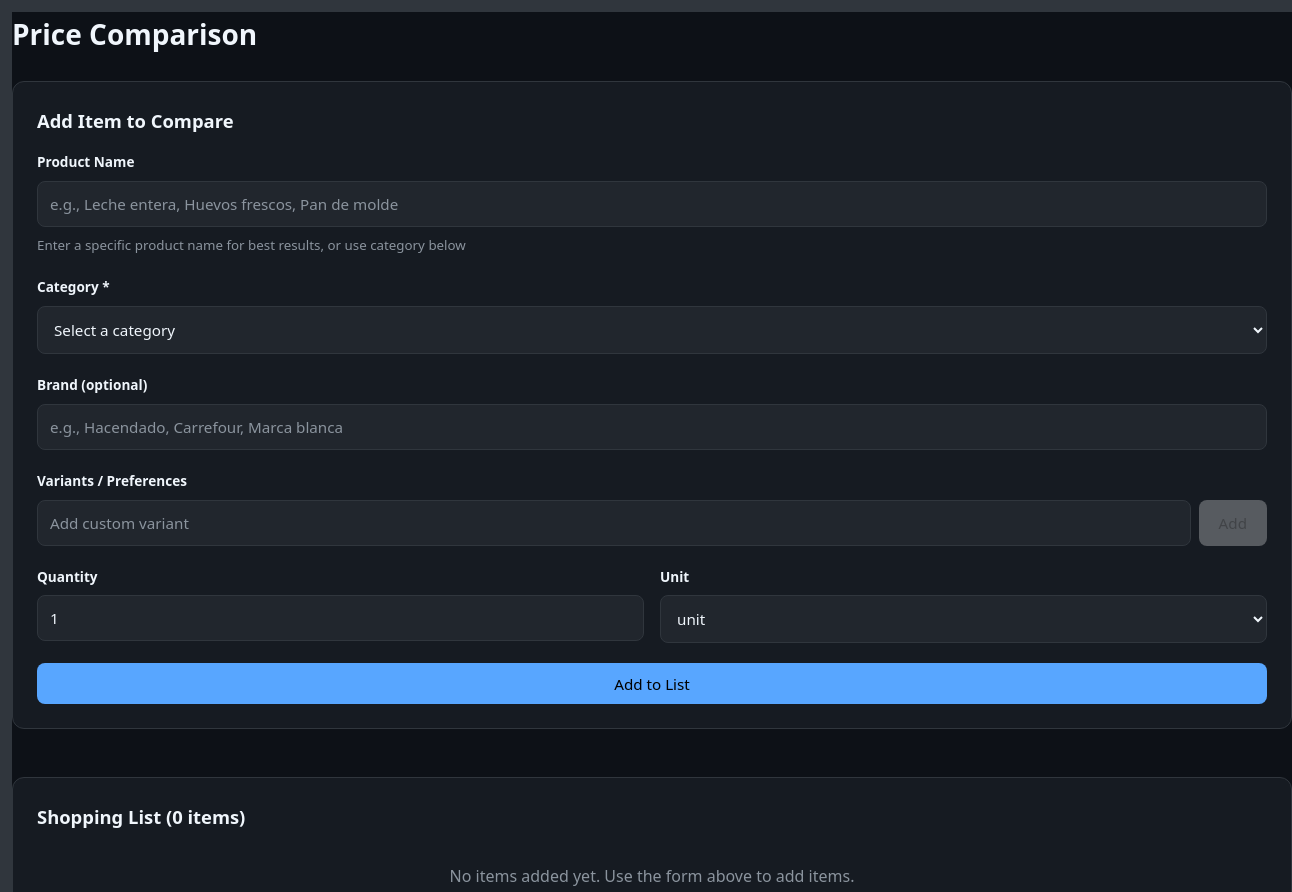
Test: ComparisonPage › Item Form (C2 - Shopping List Input) › shows validation error when adding item without product name or category
// Try to add without entering product name or selecting category
Click the button "Add to List": {"x": 652, "y": 684} [37, 663, 1267, 704]
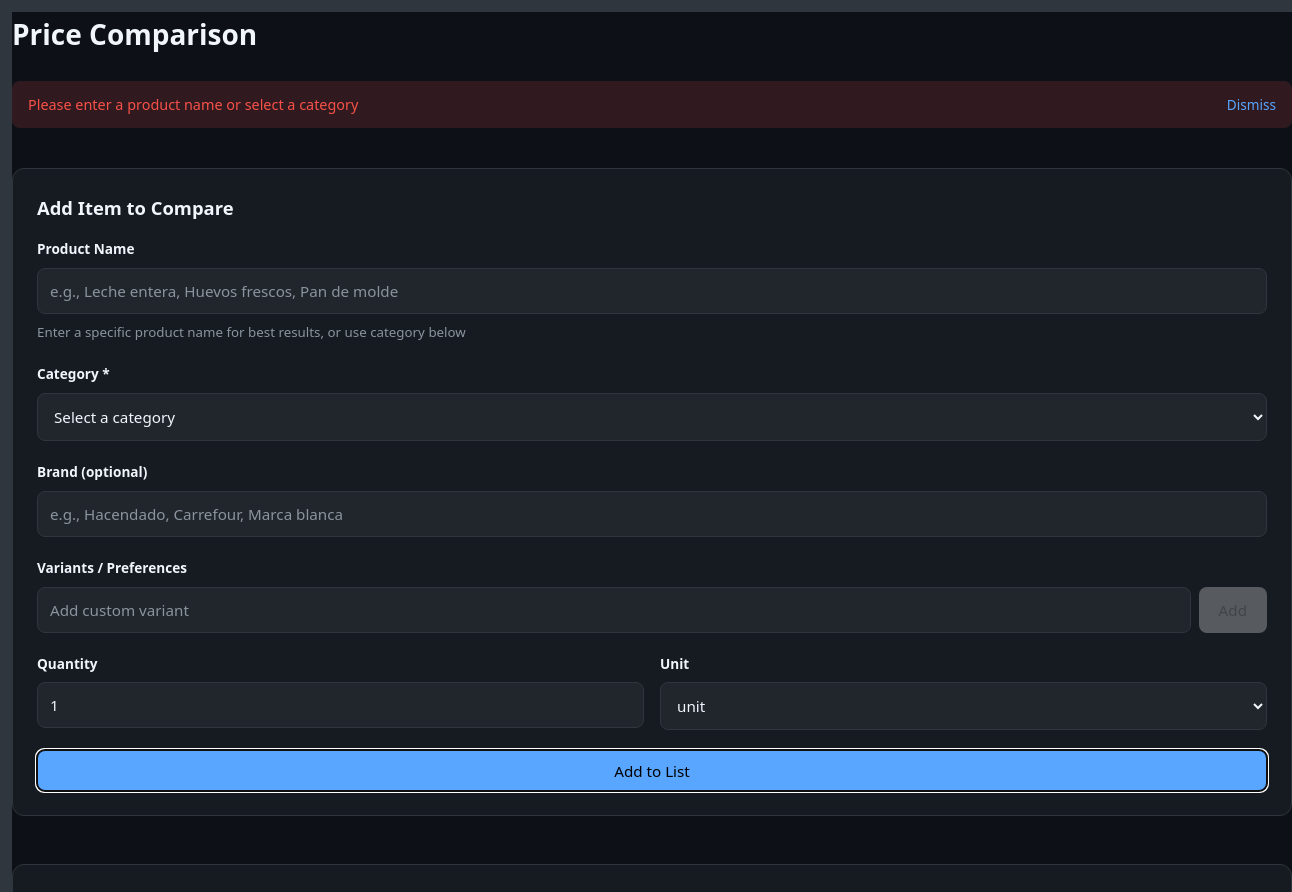
Expected: the text "Please enter a product name or select a category" is shown, [28, 93, 358, 116]
